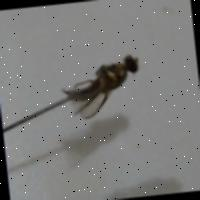Oriental-fruit-fly: (48, 38, 169, 138)
